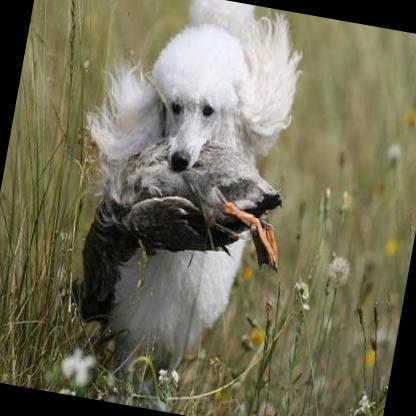miniature_poodle: (34, 0, 312, 416)
